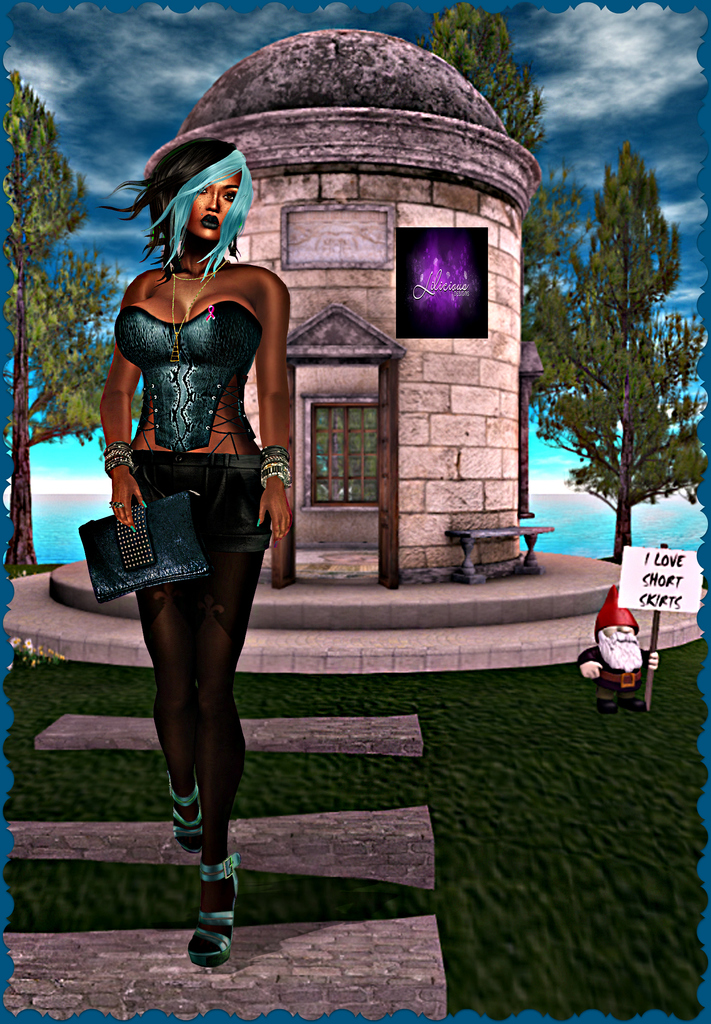Tree: (527, 120, 695, 556), (0, 67, 142, 576), (525, 149, 597, 448), (414, 2, 542, 145)
